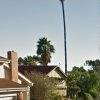Palm tree: (29, 29, 59, 67)
